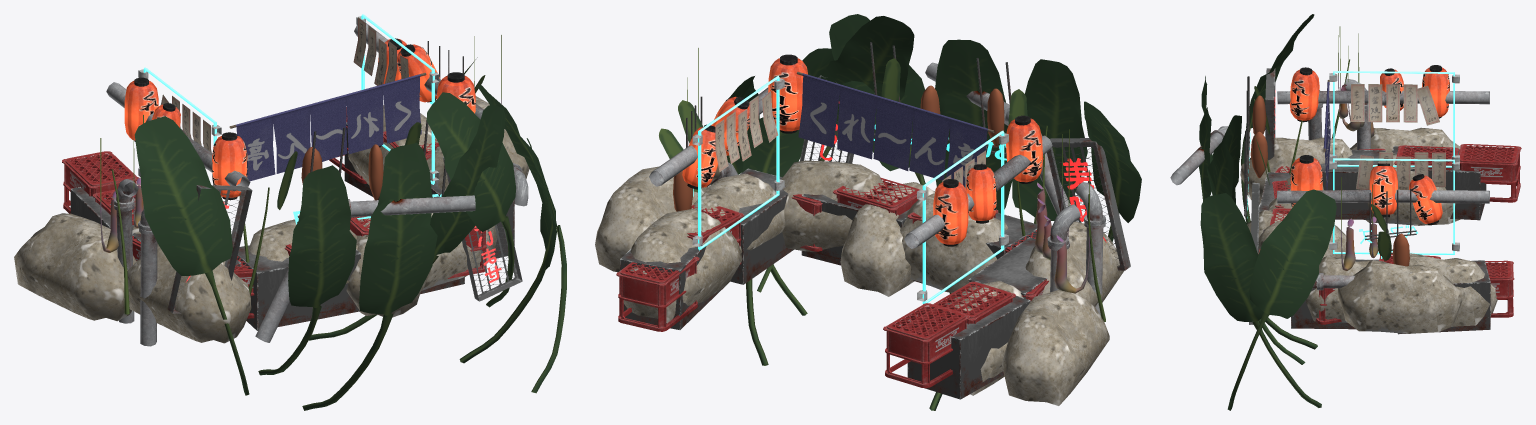
File: NewBGasset_02.fbx
The picture shows the model from 3 angles, left to right: view 1: azimuth 30°, elevation 25°; view 2: azimuth 150°, elevation 25°; view 3: azimuth 270°, elevation 25°; orthographic projection. The views are drawn at different scales.
Visible parts, largest first — view 1: bananaleaf_01__4_, noren_01, bananaleaf_01__3_, rock_01__7_, bananaleaf_01, rock_01__5_, bananaleaf_01__1_, bananaleaf_01__2_, ironbox_01__2_, beerbox_01__9_, bananaleaf_01__5_, bananaleaf_01__6_ (+27 smaller); view 2: noren_01, rock_01__7_, rock_01__2_, rock_01__3_, bananaleaf_01, rock_01__9_, bananaleaf_01__3_, ironbox_01, rock_01__4_, rock_01__8_, bananaleaf_01__1_, beerbox_01__9_ (+46 smaller); view 3: bananaleaf_01__5_, rock_01__8_, bananaleaf_01__6_, beerbox_01__9_, rock_01__2_, rock_01__5_, ironbox_01__1_, rock_01__7_, rock_01__1_, ironbox_01, chochin_01__4_, chochin_01__5_ (+45 smaller).
Part boxes in pixels (<box>): bananaleaf_01__4_: <box>134,116,249,395</box>; noren_01: <box>229,72,426,181</box>; bananaleaf_01__3_: <box>302,142,437,410</box>; rock_01__7_: <box>14,213,135,321</box>; bananaleaf_01: <box>258,165,356,375</box>; rock_01__5_: <box>127,243,251,343</box>; bananaleaf_01__1_: <box>426,92,515,307</box>; bananaleaf_01__2_: <box>309,105,505,340</box>; ironbox_01__2_: <box>237,245,360,330</box>; beerbox_01__9_: <box>62,151,138,213</box>; bananaleaf_01__5_: <box>477,85,566,393</box>; bananaleaf_01__6_: <box>459,138,556,363</box>; noren_01: <box>796,71,994,186</box>; rock_01__7_: <box>1001,290,1109,405</box>; rock_01__2_: <box>623,209,742,323</box>; rock_01__3_: <box>781,160,885,251</box>; bananaleaf_01: <box>1012,59,1087,223</box>; rock_01__9_: <box>840,182,934,296</box>; bananaleaf_01__3_: <box>929,39,1012,410</box>; ironbox_01: <box>907,295,1030,399</box>; rock_01__4_: <box>900,193,1007,292</box>; rock_01__8_: <box>595,166,707,272</box>; bananaleaf_01__1_: <box>757,16,914,292</box>; beerbox_01__9_: <box>883,303,970,388</box>; bananaleaf_01__5_: <box>1227,189,1336,410</box>; rock_01__8_: <box>1337,260,1462,333</box>; bananaleaf_01__6_: <box>1200,193,1321,407</box>; beerbox_01__9_: <box>1458,144,1521,202</box>; rock_01__2_: <box>1409,253,1497,326</box>; rock_01__5_: <box>1240,137,1352,204</box>; ironbox_01__1_: <box>1321,150,1385,219</box>; rock_01__7_: <box>1350,127,1460,151</box>; rock_01__1_: <box>1306,256,1370,322</box>; ironbox_01: <box>1392,146,1486,220</box>; chochin_01__4_: <box>1289,67,1319,122</box>; chochin_01__5_: <box>1369,163,1397,217</box>.
Size of the model in its own units: 12170 by 8242 by 9603.
1 material, 1 textured.
